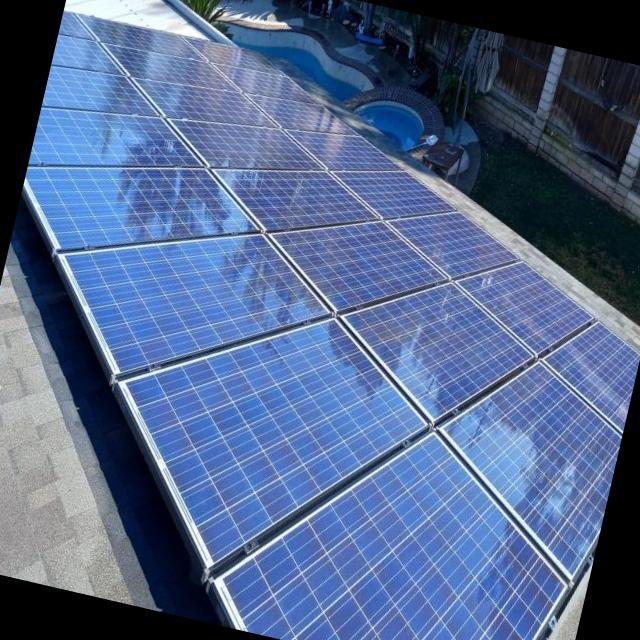no faulty: (128, 324, 432, 565), (225, 435, 562, 640), (450, 366, 621, 567), (70, 237, 324, 364), (346, 287, 532, 418), (26, 170, 253, 246), (270, 223, 440, 306), (449, 262, 586, 351), (547, 321, 640, 429), (221, 171, 376, 229), (385, 208, 511, 276), (29, 111, 187, 161), (165, 117, 314, 164), (137, 77, 272, 127), (104, 45, 235, 88), (42, 68, 155, 114), (81, 17, 200, 59), (286, 131, 401, 170), (336, 177, 446, 215), (248, 96, 352, 133), (185, 36, 281, 73), (216, 66, 314, 101), (51, 35, 123, 72), (59, 13, 96, 41)
